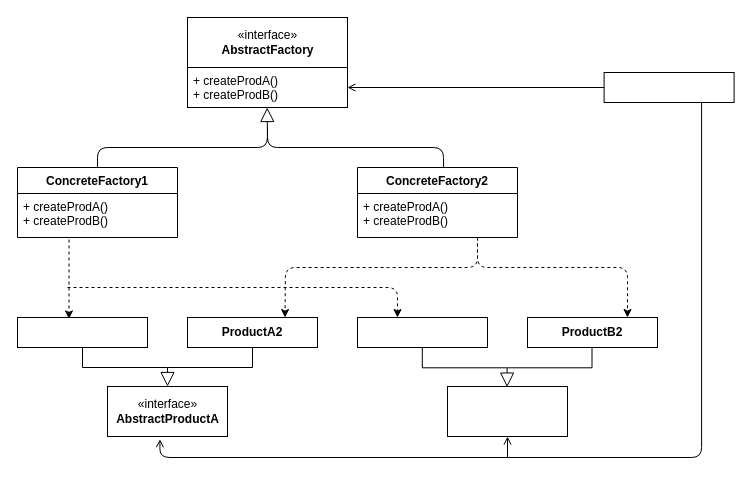
Some shapes in this 752 by 483 pixel diagram are drawn without their labels. Here are the shapes that lost their labels. From the top down, the centre of each, then its label:
At (x=668, y=87): "Client".
At (x=82, y=332): "ProductA1".
At (x=422, y=332): "ProductB1".
At (x=507, y=411): "«interface» AbstractProductB".
